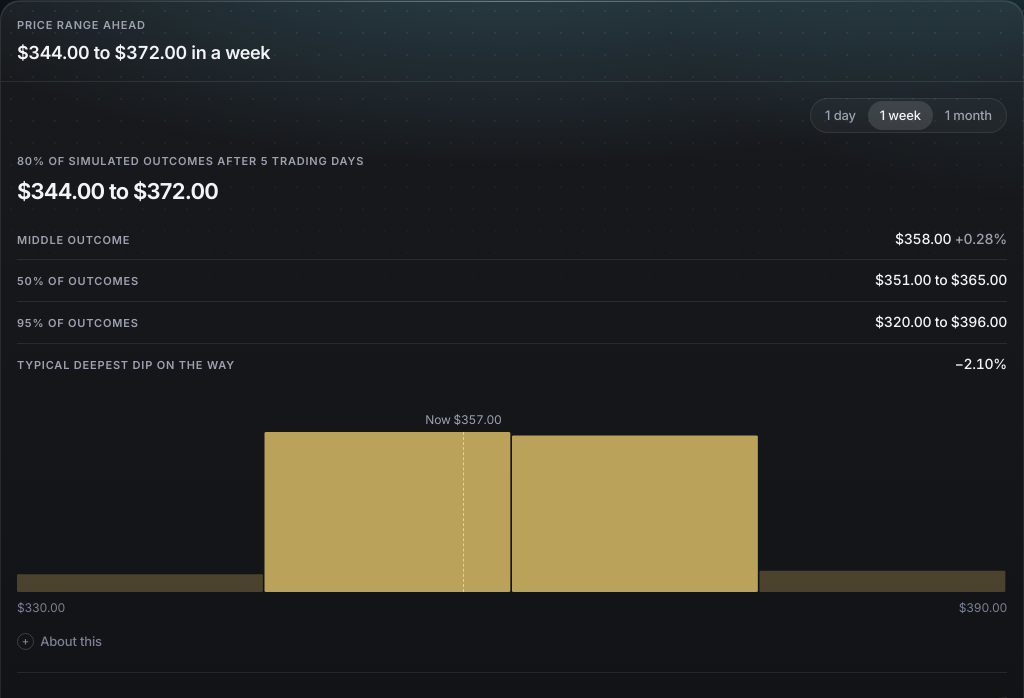
OutlookPanel › says when a range has been widened as far as it can go
Click the button "1 month" at (968,116), box [933, 101, 1004, 130]
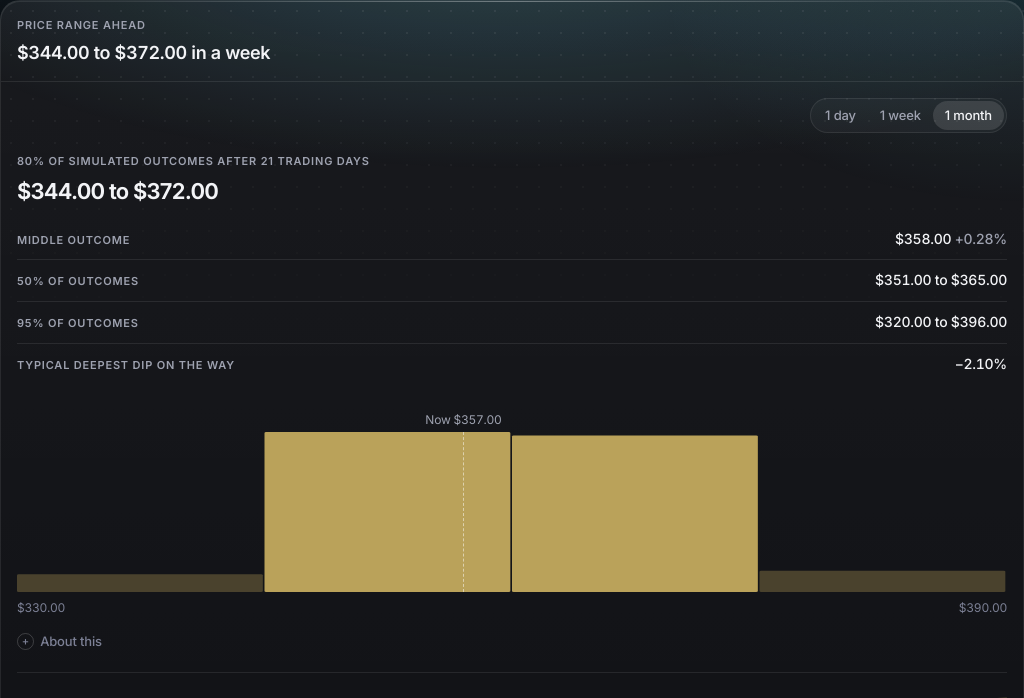
Result: the text "80% of simulated outcomes after 21 trading days" is shown at [17, 154, 370, 168]
